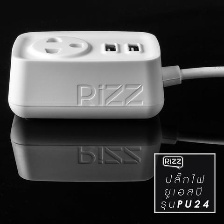three_eye_plug: (4, 21, 168, 122)
